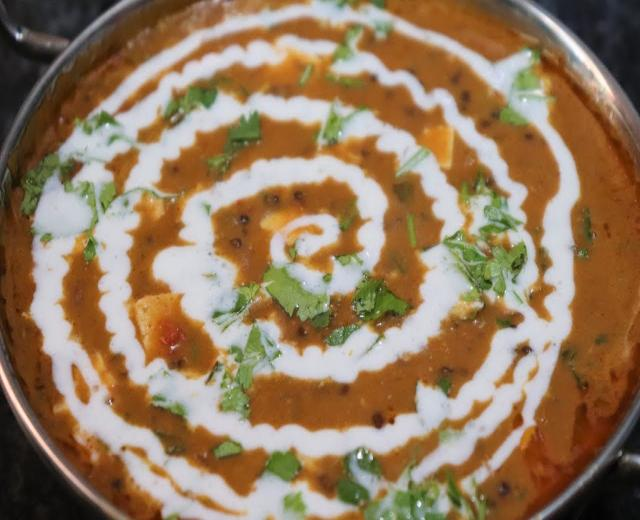dal makhni: (0, 0, 630, 511), (181, 99, 361, 279), (119, 210, 199, 328)
